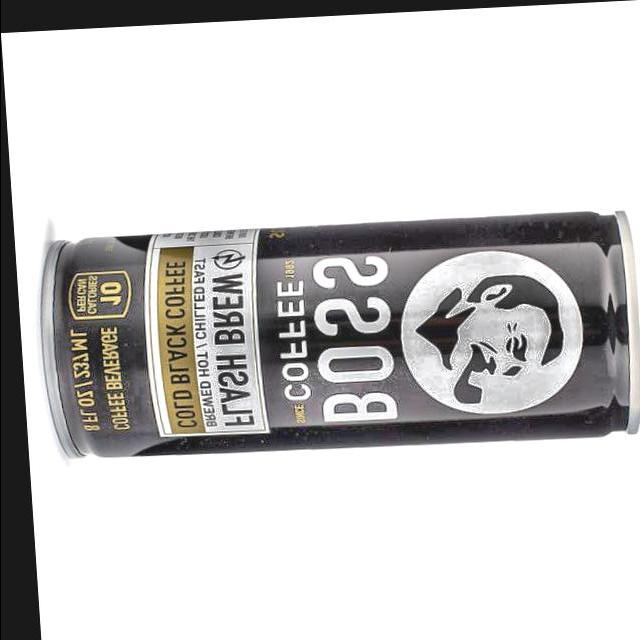Aluminum Can: (24, 189, 640, 472)
